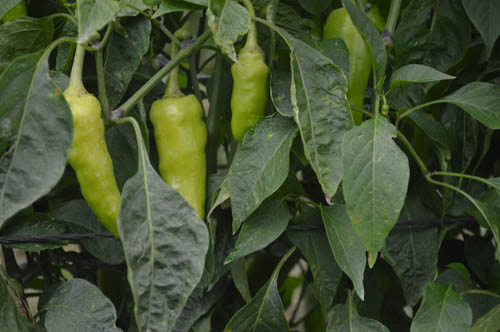ChiliPepper: (55, 93, 127, 238), (148, 96, 212, 232), (320, 9, 369, 124), (230, 50, 270, 142)
